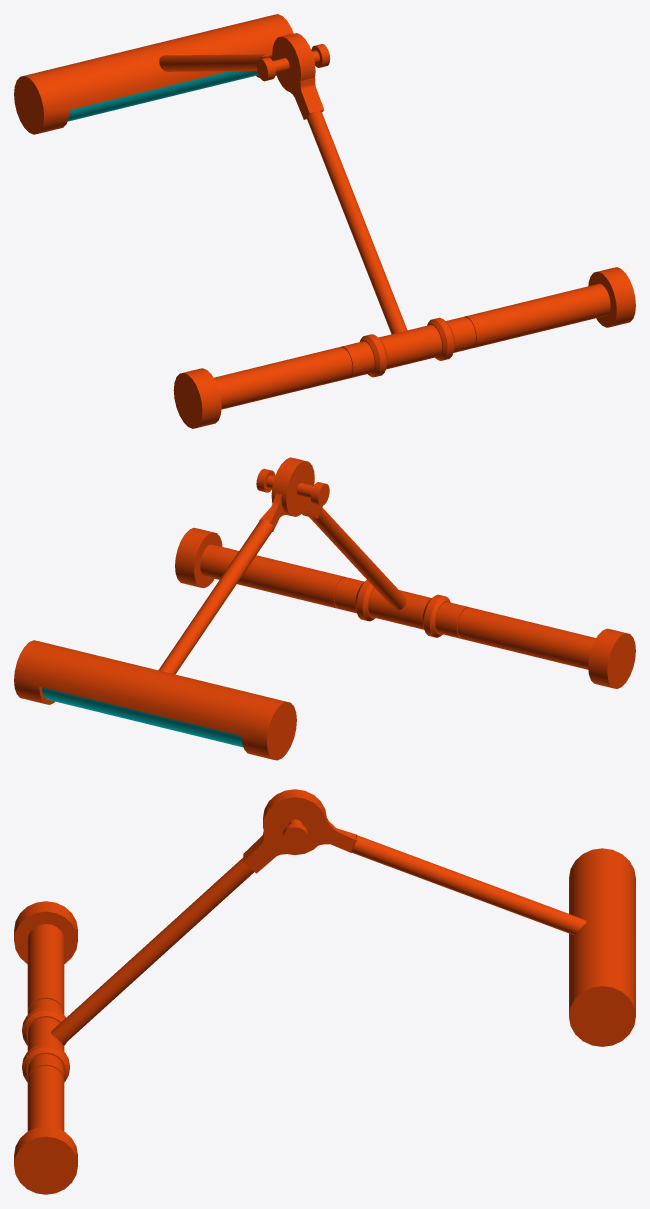
The model's file is Lamp_Low_2.fbx.
3 renders of one model, top to bottom at view 1: azimuth 30°, elevation 25°; view 2: azimuth 150°, elevation 25°; view 3: azimuth 270°, elevation 25°, orthographic. The views are drawn at different scales.
Visible parts, largest first — view 1: MainCylinder, LampCase, AdjustableCylinder1, pCylinder3, Lamp, pCylinder2, AdjustableCylinder2, pCylinder4, pCube1, pCylinder8, pCylinder7; view 2: LampCase, MainCylinder, AdjustableCylinder2, pCylinder3, Lamp, AdjustableCylinder1, pCylinder2, pCylinder4, pCylinder8, pCylinder7; view 3: LampCase, MainCylinder, AdjustableCylinder1, AdjustableCylinder2, pCylinder2, pCylinder4, pCylinder3, pCube1, pCylinder7, pCube2, pCylinder5.
Part boxes in pixels (bbox=[...]): MainCylinder: bbox=[214, 283, 610, 409]; LampCase: bbox=[14, 14, 293, 134]; AdjustableCylinder1: bbox=[306, 111, 407, 334]; pCylinder3: bbox=[173, 368, 221, 428]; Lamp: bbox=[67, 71, 258, 121]; pCylinder2: bbox=[588, 267, 635, 327]; AdjustableCylinder2: bbox=[159, 54, 270, 71]; pCylinder4: bbox=[272, 33, 315, 91]; pCube1: bbox=[290, 77, 324, 119]; pCylinder8: bbox=[359, 334, 387, 377]; pCylinder7: bbox=[427, 317, 455, 360]; LampCase: bbox=[14, 640, 296, 760]; MainCylinder: bbox=[200, 544, 595, 669]; AdjustableCylinder2: bbox=[158, 519, 273, 674]; pCylinder3: bbox=[588, 628, 635, 688]; Lamp: bbox=[42, 687, 243, 747]; AdjustableCylinder1: bbox=[309, 507, 406, 610]; pCylinder2: bbox=[175, 527, 222, 588]; pCylinder4: bbox=[271, 457, 314, 516]; pCylinder8: bbox=[422, 594, 450, 637]; pCylinder7: bbox=[355, 580, 375, 621]; LampCase: bbox=[569, 848, 635, 1046]; MainCylinder: bbox=[27, 924, 64, 1131]; AdjustableCylinder1: bbox=[51, 857, 253, 1044]; AdjustableCylinder2: bbox=[351, 835, 586, 934]; pCylinder2: bbox=[14, 1126, 77, 1194]; pCylinder4: bbox=[263, 789, 326, 854]; pCylinder3: bbox=[14, 901, 77, 963]; pCube1: bbox=[243, 831, 286, 873]; pCylinder7: bbox=[22, 1044, 69, 1081]; pCube2: bbox=[318, 817, 357, 852]; pCylinder5: bbox=[283, 823, 308, 850].
Size of the model in its own units: 0.3022 by 0.17 by 0.3372.
